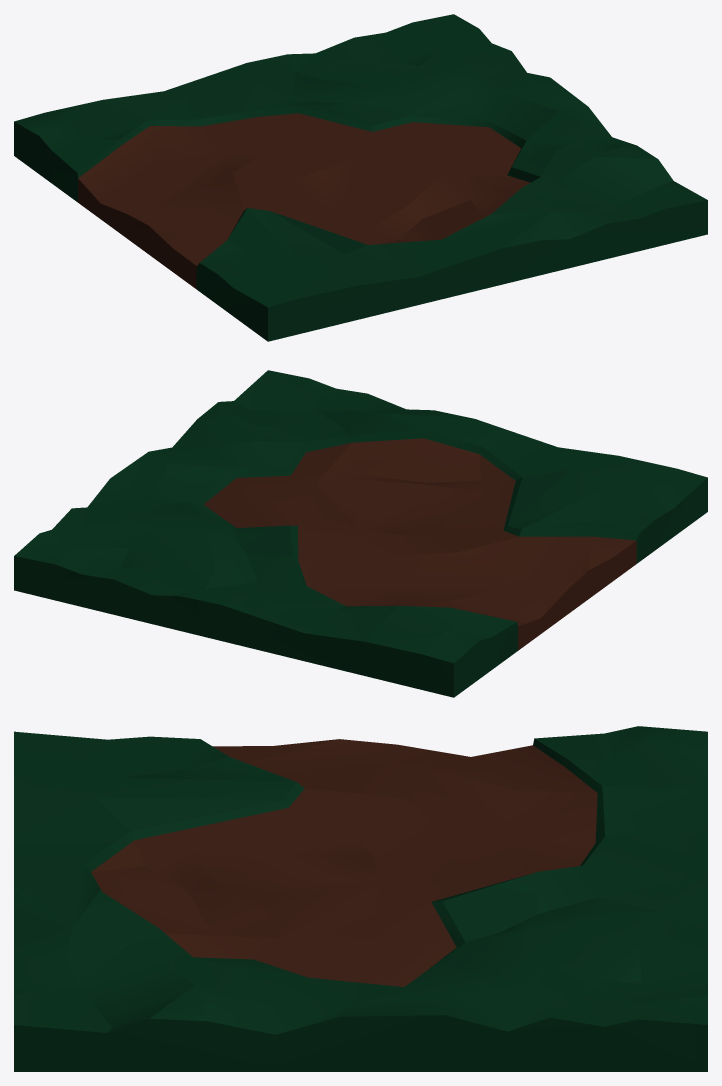
The model's file is Ground_Path_Ending_R.fbx.
3 renders of one model, top to bottom at view 1: azimuth 30°, elevation 25°; view 2: azimuth 150°, elevation 25°; view 3: azimuth 270°, elevation 25°, orthographic. The views are drawn at different scales.
Visible parts, largest first — view 1: Ground_Path_Ending_R; view 2: Ground_Path_Ending_R; view 3: Ground_Path_Ending_R.
Boxes of the visible parts, bbox=[...] form: Ground_Path_Ending_R: bbox=[14, 14, 707, 341]; Ground_Path_Ending_R: bbox=[14, 370, 707, 697]; Ground_Path_Ending_R: bbox=[14, 726, 707, 1071].
Bounding box in the file's own units: 147 × 13.97 × 147.
